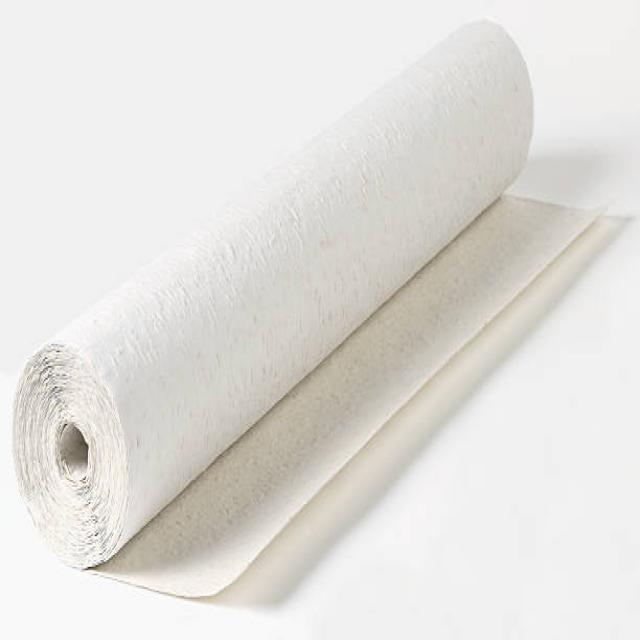electronic: (11, 14, 536, 578)
